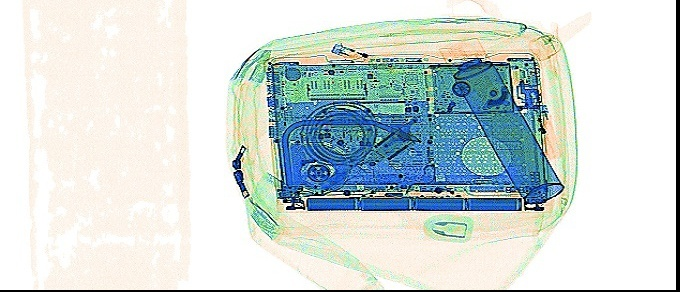lighter: (328, 37, 395, 75), (529, 101, 564, 162)
pressure: (438, 34, 565, 205)
